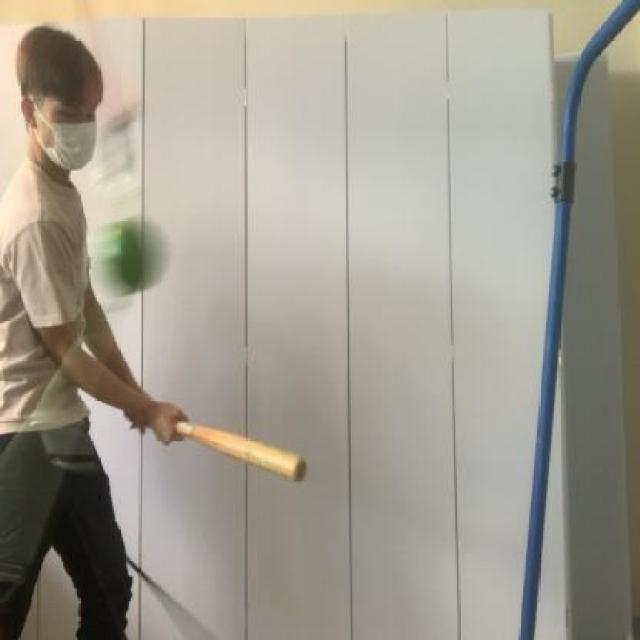baseball: (92, 213, 168, 302)
